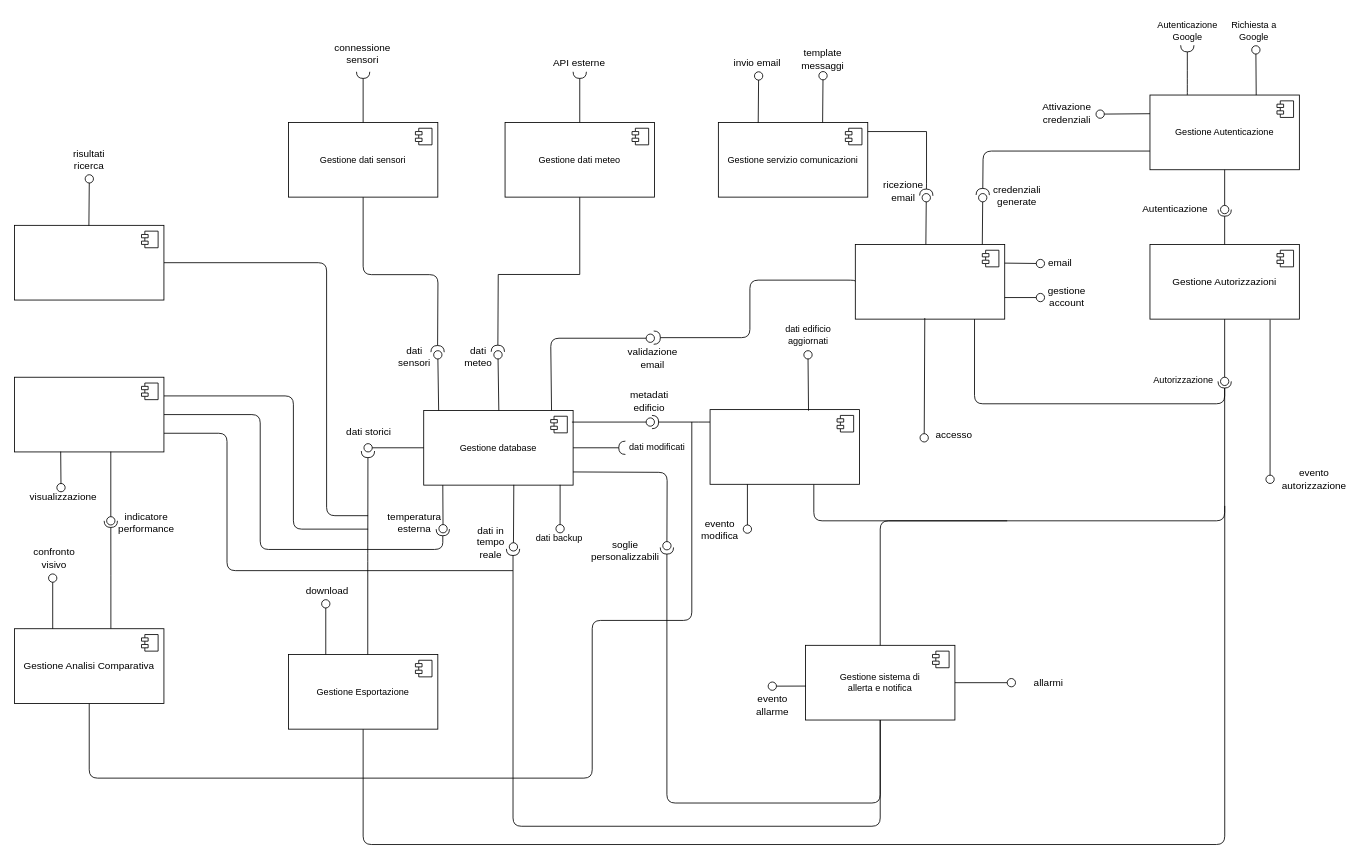
Some shapes in this 1360 by 860 pixel diagram are drawn without their labels. The centre of each missing label's shape, as x and y in pixels:
"Gestione Dashboard e Grafici" goes at pixel 89 414.
"Gestione edifici e sensori" goes at pixel 784 446.
"Gestione ricerca edifici" goes at pixel 89 262.
"Gestione Utenti" goes at pixel 929 281.
